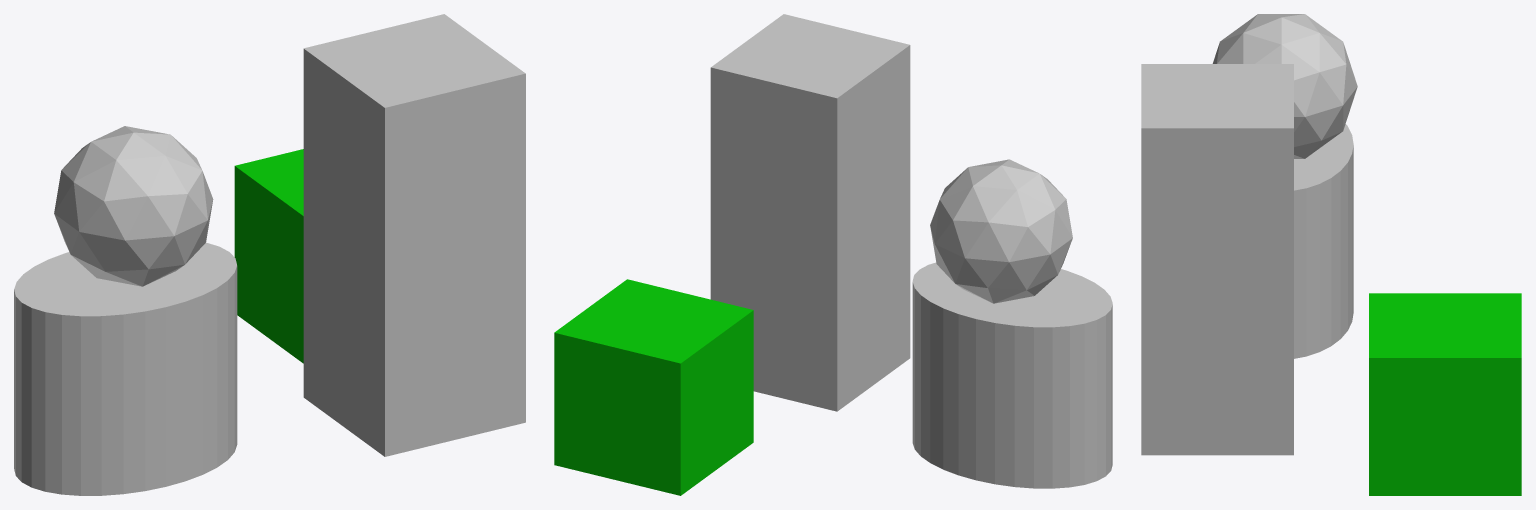
Rendered from sceno.obj.
The picture shows the model from 3 angles, left to right: view 1: azimuth 30°, elevation 25°; view 2: azimuth 150°, elevation 25°; view 3: azimuth 270°, elevation 25°; orthographic projection. The views are drawn at different scales.
Size of the model in its own units: 6.87 by 4.97 by 4.99.
